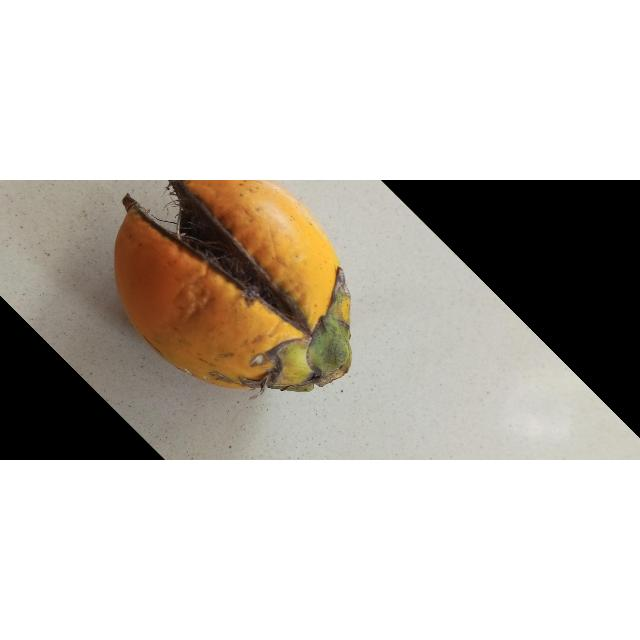damaged: (114, 180, 352, 395)
